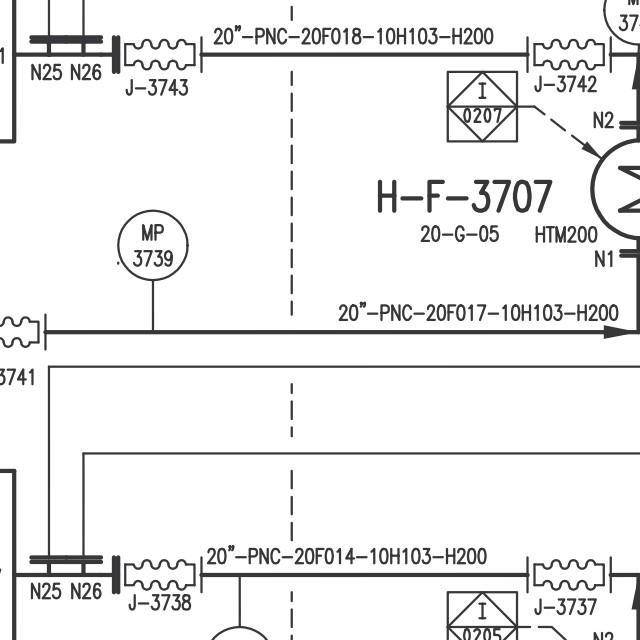EJ: (520, 547, 618, 597), (115, 550, 208, 598), (520, 30, 616, 74), (115, 27, 206, 73)
